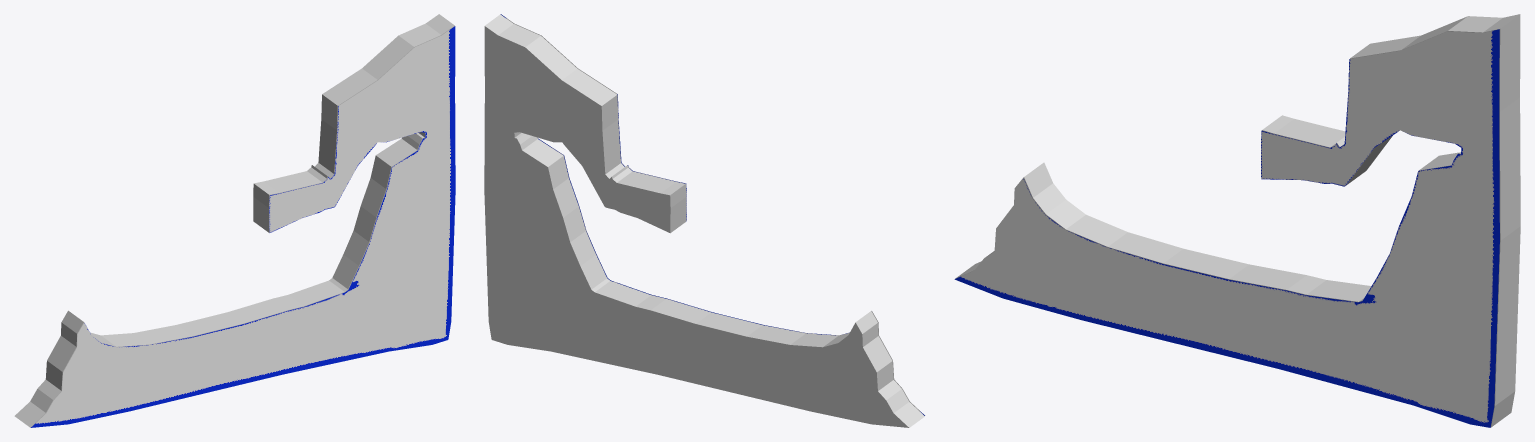
The picture shows the model from 3 angles, left to right: view 1: azimuth 30°, elevation 25°; view 2: azimuth 150°, elevation 25°; view 3: azimuth 330°, elevation 25°; orthographic projection. The views are drawn at different scales.
Visible parts, largest first — view 1: Out_3_1, Out_3_0; view 2: Out_3_0, Out_3_1; view 3: Out_3_1, Out_3_0.
Part boxes in pixels (x1=…): Out_3_1: x1=31, y1=26, x2=455, y2=427; Out_3_0: x1=14, y1=14, x2=454, y2=427; Out_3_0: x1=484, y1=14, x2=924, y2=427; Out_3_1: x1=500, y1=14, x2=924, y2=415; Out_3_1: x1=954, y1=29, x2=1499, y2=427; Out_3_0: x1=955, y1=14, x2=1520, y2=427.
Size of the model in its own units: 7.79 by 5.49 by 0.515.
Materials: 2 (1 with a texture image).
